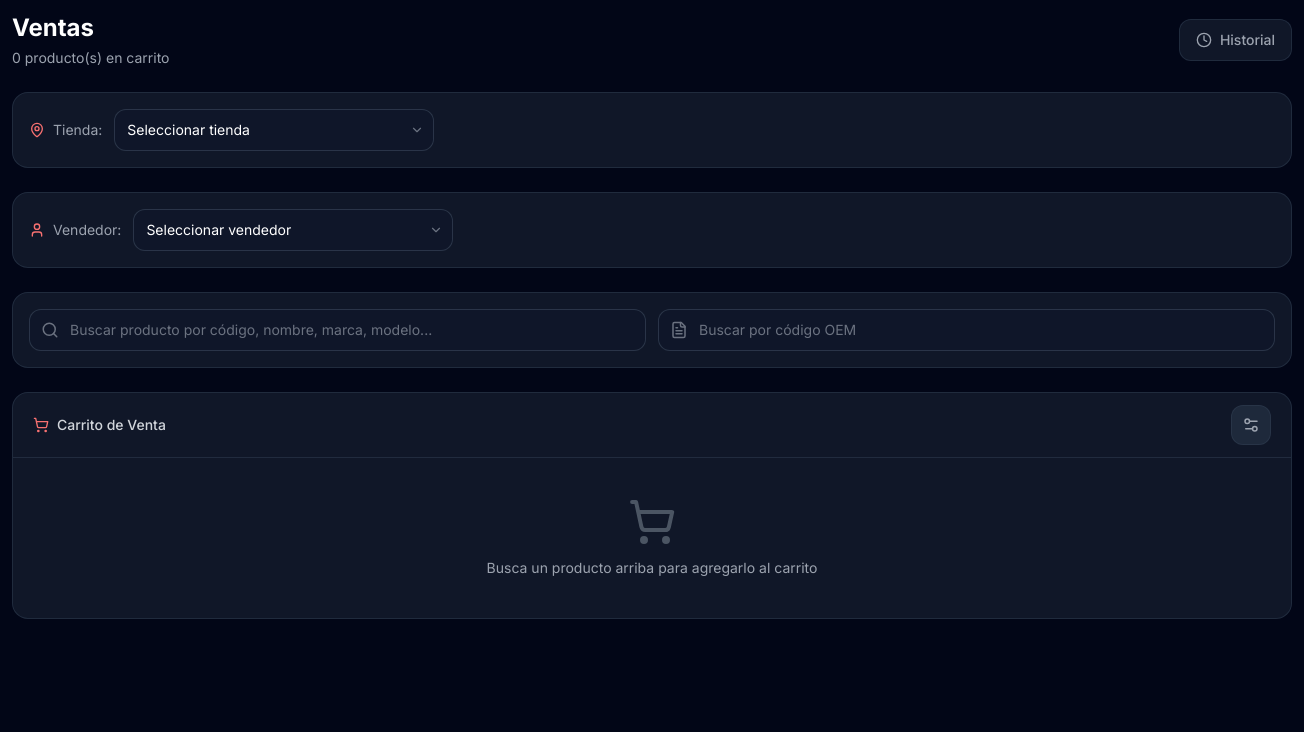
Test case: SalesPage — Carrito (E7.5) › agregar producto al carrito lo muestra en la tabla
Type "Filtro de Aceite" into the field with placeholder "Buscar producto por código, nombre, marca, modelo..." at (338, 330), box [29,309,646,351]
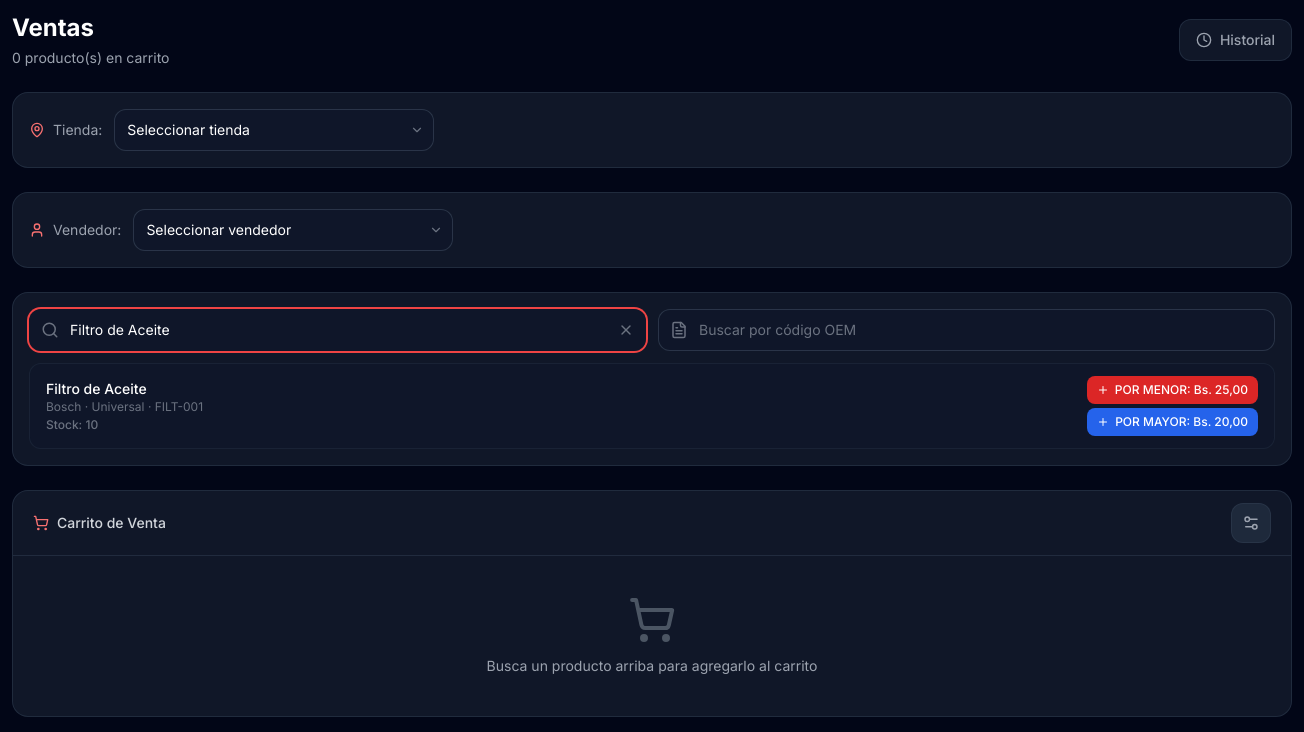
Click the button "POR MENOR: Bs. 25,00" at (1172, 390), box [1087,376,1258,404]
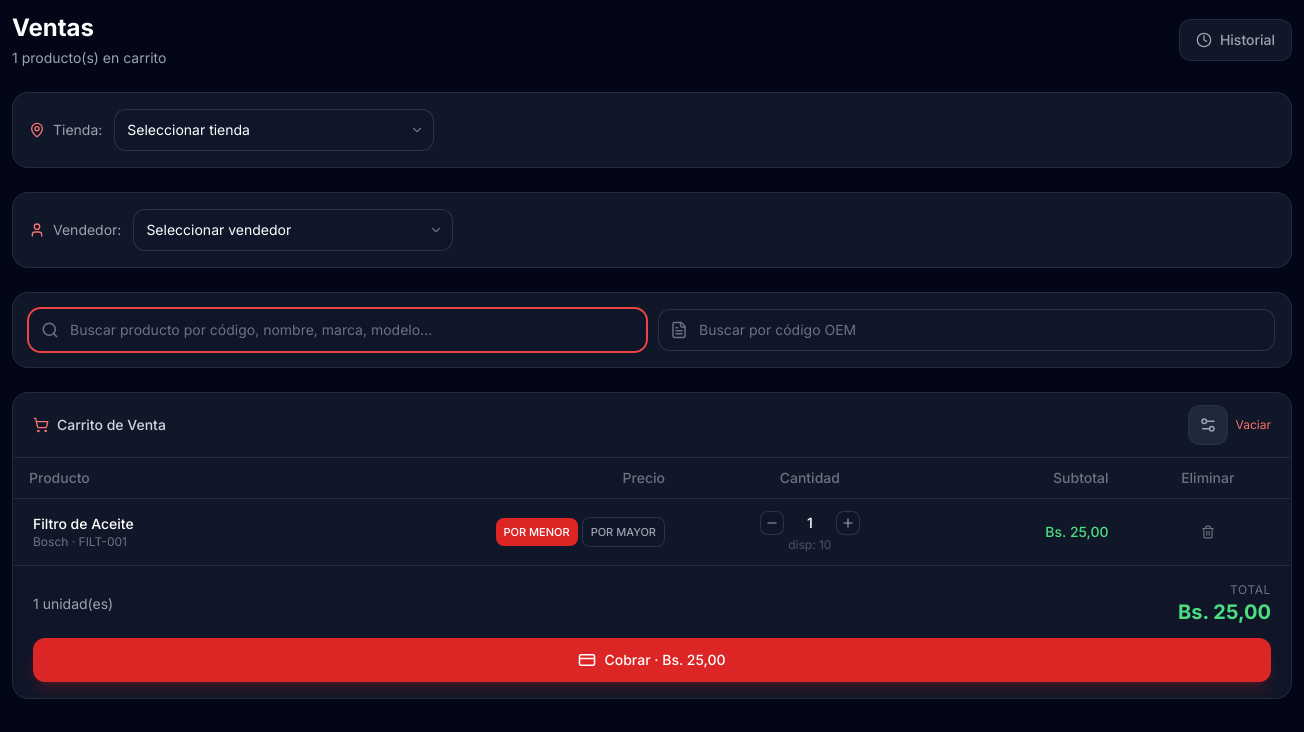
Result: the text "1 producto(s) en carrito" is shown at [12,48,166,68]
